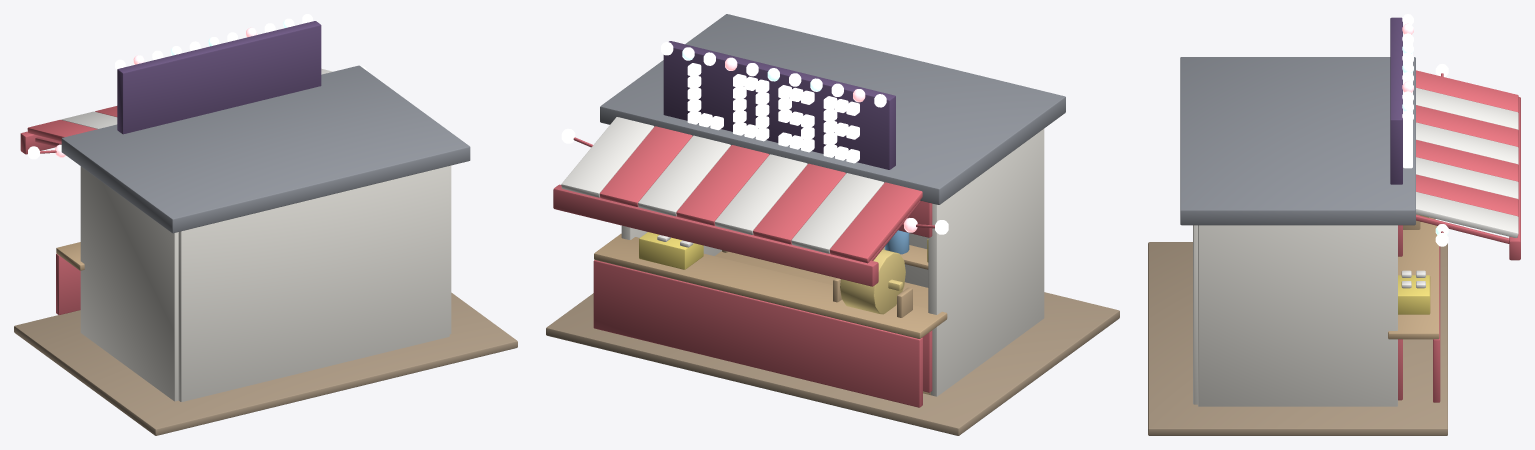
File: th13_losbude.glb
3 views of the same model, side by side, from view 1: azimuth 30°, elevation 25°; view 2: azimuth 150°, elevation 25°; view 3: azimuth 270°, elevation 25° (orthographic). The views are drawn at different scales.
Parts seen in each view (by area): view 1: Cube.002, Cube.009, Cube, Cube.003, Cube.021, Cube.008, Cube.010, Cube.011, Cube.004, Cube.007; view 2: Cube.009, Cube.008, Cube.003, Cube, Cube.021, Cube.007, Cube.018, Cube.010, Cube.017, Cube.012, Cube.015, Cube.014 (+9 smaller); view 3: Cube.009, Cube.004, Cube, Cube.007, Cube.017, Cube.021, Cube.012, Cube.010, Cube.015, Cube.011, Cube.013, Cube.014 (+6 smaller).
Boxes of the visible parts, x1=… form: Cube.002: x1=178, y1=166, x2=449, y2=401; Cube.009: x1=61, y1=65, x2=470, y2=233; Cube: x1=14, y1=292, x2=517, y2=435; Cube.003: x1=80, y1=166, x2=178, y2=401; Cube.021: x1=117, y1=21, x2=321, y2=134; Cube.008: x1=56, y1=253, x2=80, y2=315; Cube.010: x1=27, y1=119, x2=97, y2=141; Cube.011: x1=61, y1=111, x2=117, y2=128; Cube.004: x1=449, y1=165, x2=451, y2=334; Cube.007: x1=56, y1=242, x2=84, y2=270; Cube.009: x1=600, y1=14, x2=1065, y2=204; Cube.008: x1=593, y1=260, x2=922, y2=407; Cube.003: x1=928, y1=129, x2=1044, y2=396; Cube: x1=546, y1=292, x2=1119, y2=435; Cube.021: x1=663, y1=41, x2=895, y2=169; Cube.007: x1=594, y1=233, x2=947, y2=338; Cube.018: x1=553, y1=184, x2=878, y2=286; Cube.010: x1=829, y1=182, x2=922, y2=263; Cube.017: x1=561, y1=117, x2=654, y2=197; Cube.012: x1=753, y1=163, x2=845, y2=244; Cube.015: x1=638, y1=135, x2=730, y2=216; Cube.014: x1=676, y1=145, x2=769, y2=225; Cube.009: x1=1180, y1=57, x2=1415, y2=225; Cube.004: x1=1198, y1=225, x2=1397, y2=406; Cube: x1=1148, y1=242, x2=1447, y2=435; Cube.007: x1=1388, y1=217, x2=1439, y2=339; Cube.017: x1=1416, y1=192, x2=1518, y2=237; Cube.021: x1=1390, y1=17, x2=1402, y2=184; Cube.012: x1=1416, y1=105, x2=1518, y2=147; Cube.010: x1=1416, y1=70, x2=1518, y2=112; Cube.015: x1=1416, y1=157, x2=1518, y2=199; Cube.011: x1=1416, y1=87, x2=1518, y2=129; Cube.013: x1=1416, y1=122, x2=1518, y2=164; Cube.014: x1=1416, y1=140, x2=1518, y2=181.
Size of the model in its own units: 6.2 by 4.33 by 5.22.
